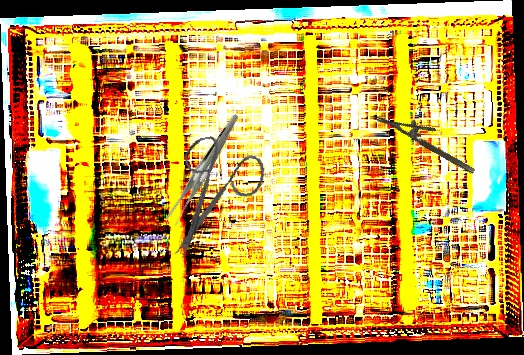Dressing Forceps: (143, 113, 266, 228)
Iris Scissors: (152, 127, 279, 261)
Needle Holder: (375, 100, 483, 176)
